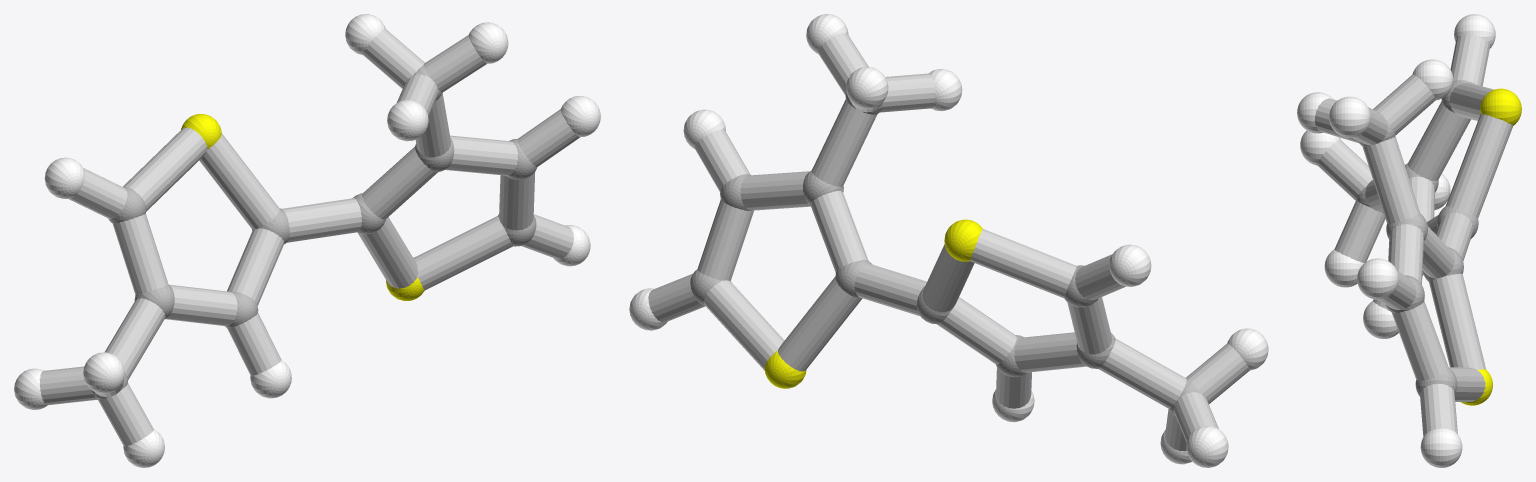
File: Methylthiophene_Phi_15_Theta_50_Methylthiophene.glb
3 views of the same model, side by side, from view 1: azimuth 30°, elevation 25°; view 2: azimuth 150°, elevation 25°; view 3: azimuth 270°, elevation 25° (orthographic).
Visible parts, largest first — view 1: grp7965, grp3621, grp1, grp7241; view 2: grp7965, grp3621, grp1, grp7241; view 3: grp7965, grp3621, grp1, grp7241.
Part boxes in pixels (x1=…): grp7965: x1=39, y1=29, x2=579, y2=446; grp3621: x1=14, y1=14, x2=600, y2=467; grp1: x1=92, y1=65, x2=537, y2=399; grp7241: x1=181, y1=114, x2=424, y2=300; grp7965: x1=648, y1=33, x2=1249, y2=451; grp3621: x1=629, y1=14, x2=1268, y2=467; grp1: x1=690, y1=92, x2=1200, y2=415; grp7241: x1=764, y1=219, x2=982, y2=388; grp7965: x1=1314, y1=35, x2=1512, y2=436; grp3621: x1=1297, y1=14, x2=1495, y2=467; grp1: x1=1356, y1=80, x2=1478, y2=396; grp7241: x1=1461, y1=88, x2=1521, y2=405.
Bounding box in the file's own units: 9.59 × 5.65 × 3.23.
